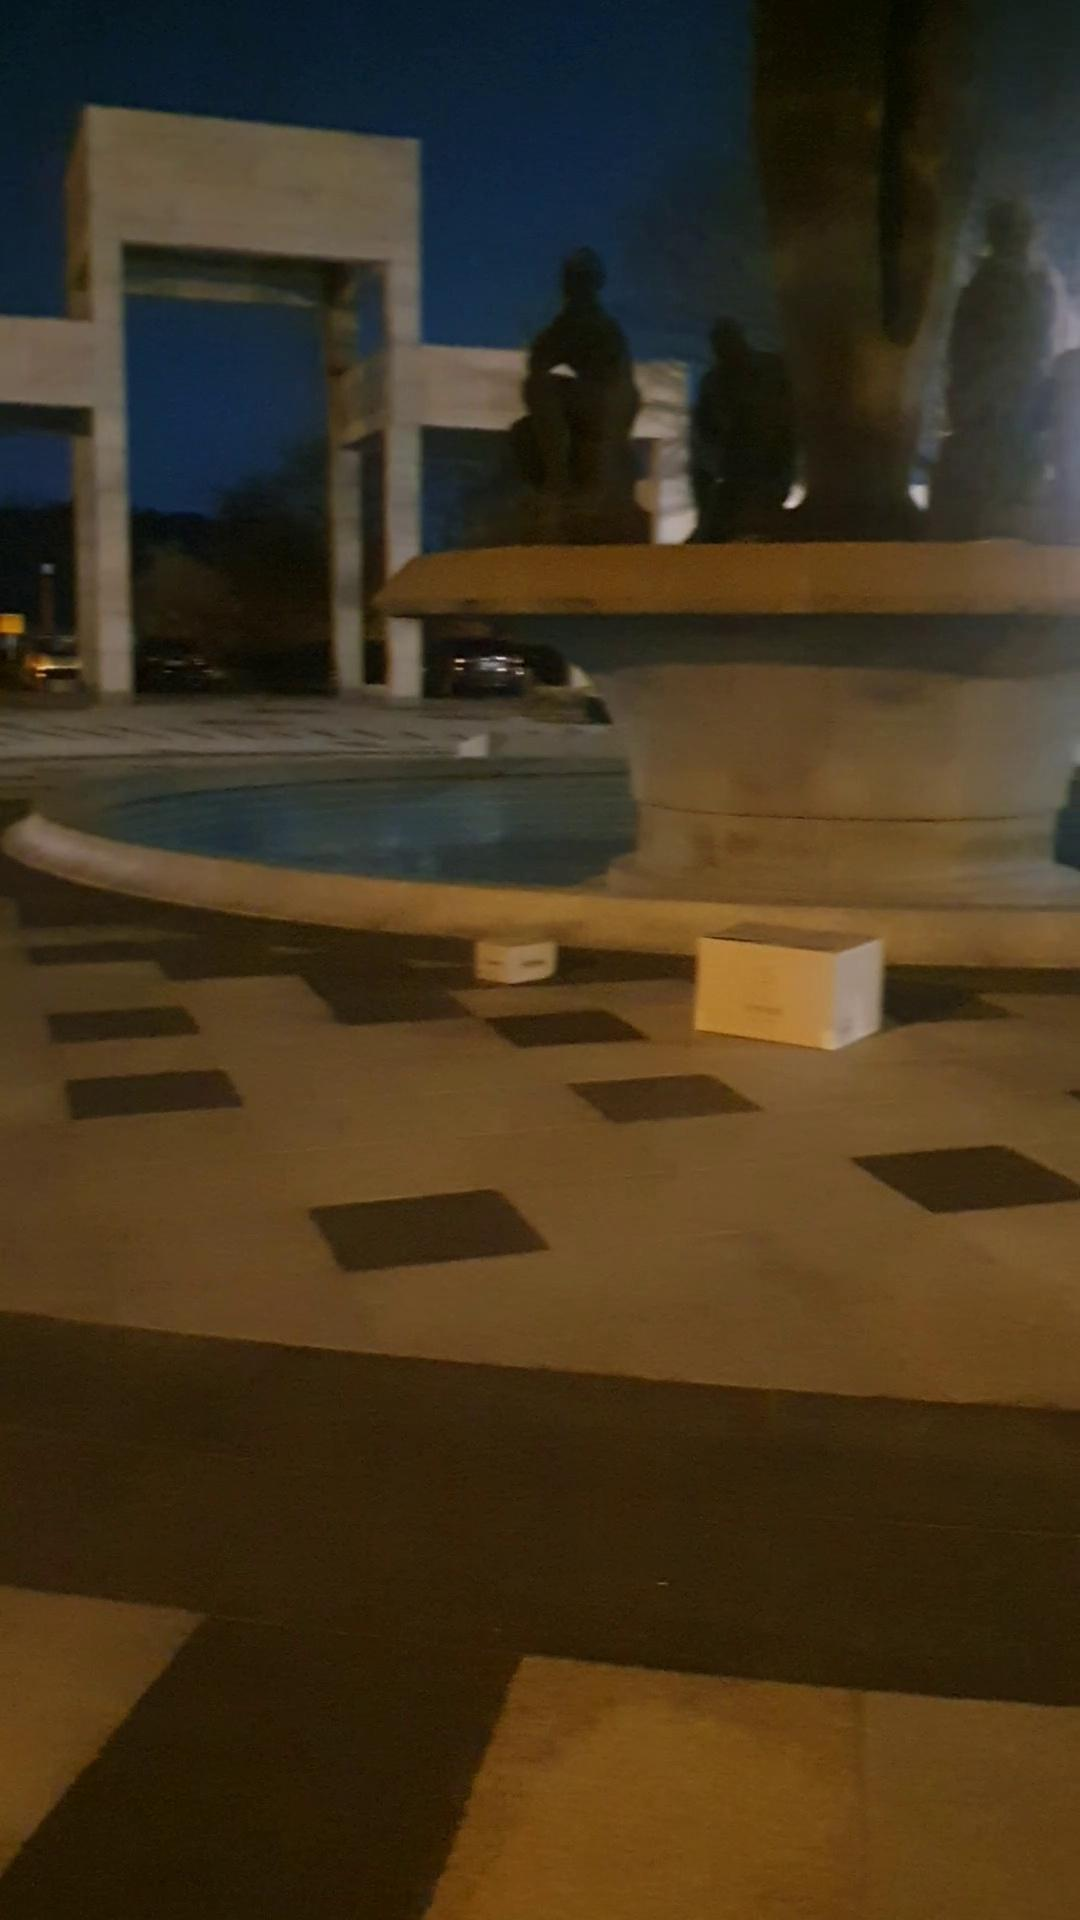Box: (680, 910, 890, 1060), (473, 920, 575, 1000)
